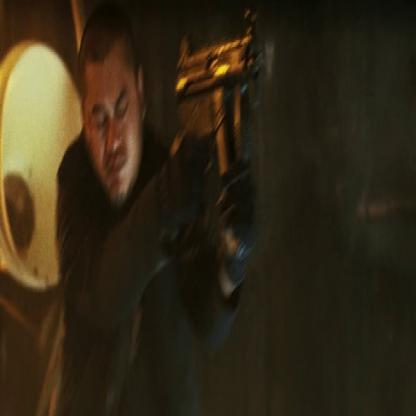Guns: (169, 3, 268, 275)
